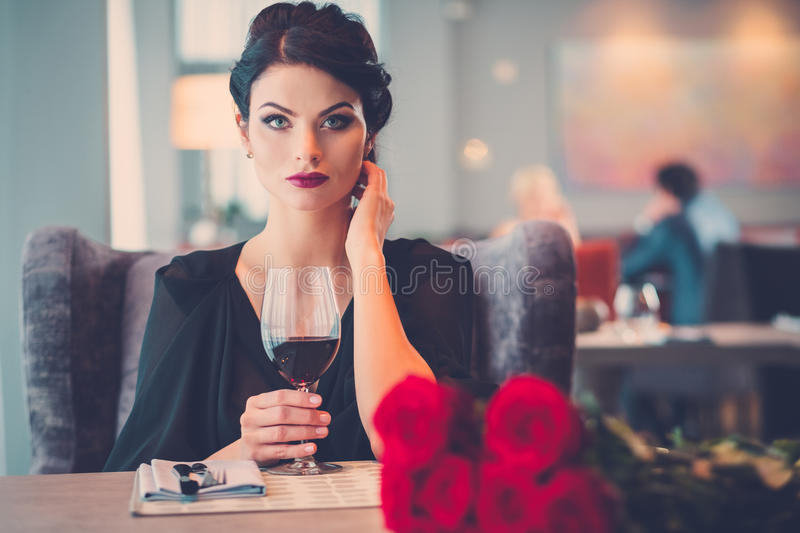RedRose: (362, 366, 456, 467), (478, 371, 576, 467)
